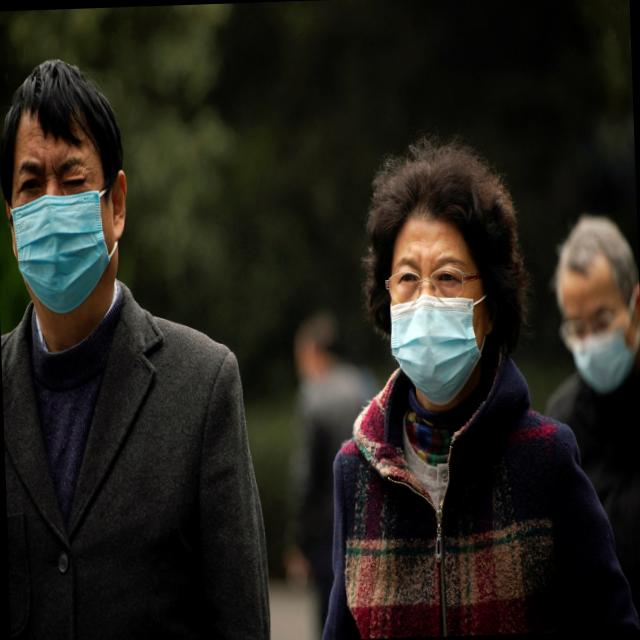Jacket: (316, 385, 640, 638)
